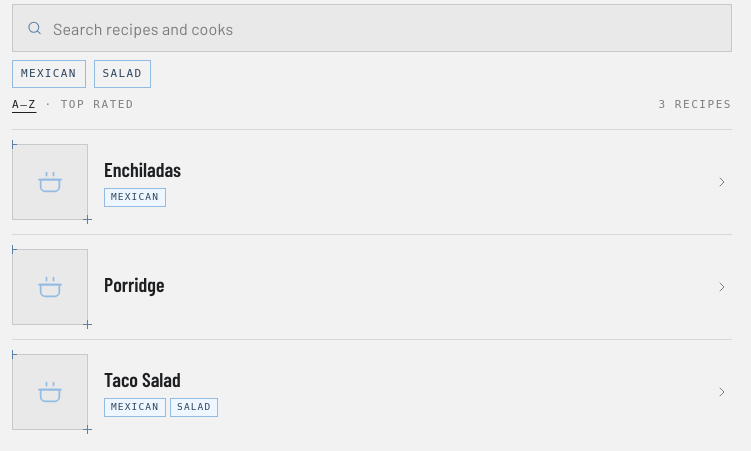
RecipeTable › tags › narrows within the chosen tag when both filters are on
Click the button with aria-label "Filter by tag: mexican" at coordinates (49, 74), box [12,60,86,88]
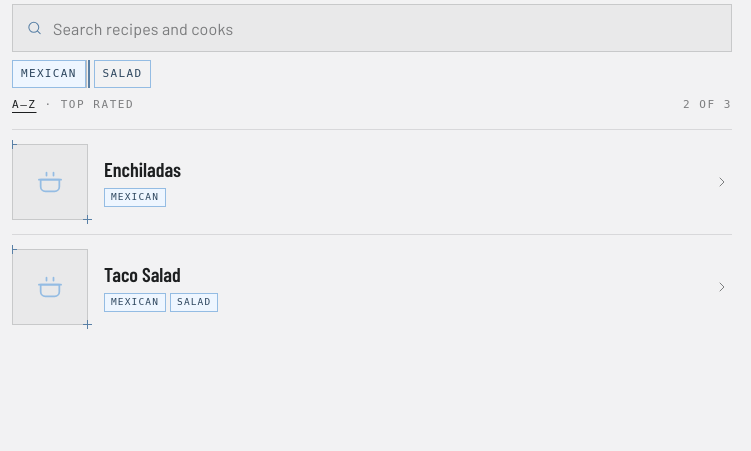
Type "taco" into the search field named "Filter recipes" at coordinates (372, 28), box [12,4,732,52]
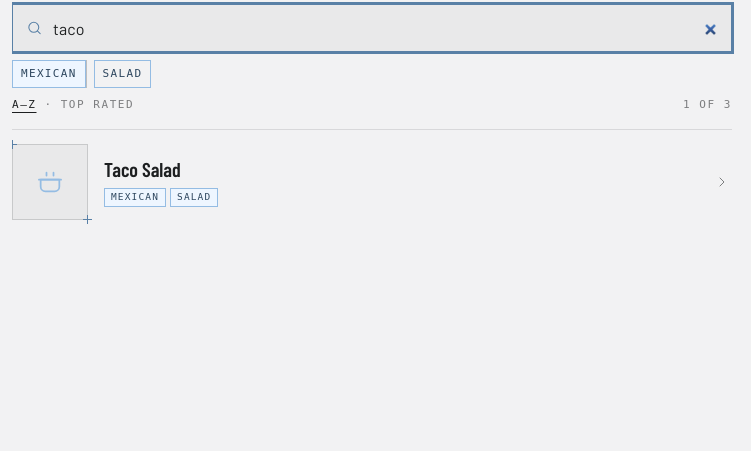
Expected: the text "Taco Salad" is shown, [104,157,181,181]
Now the button "Enchiladas" is gone
